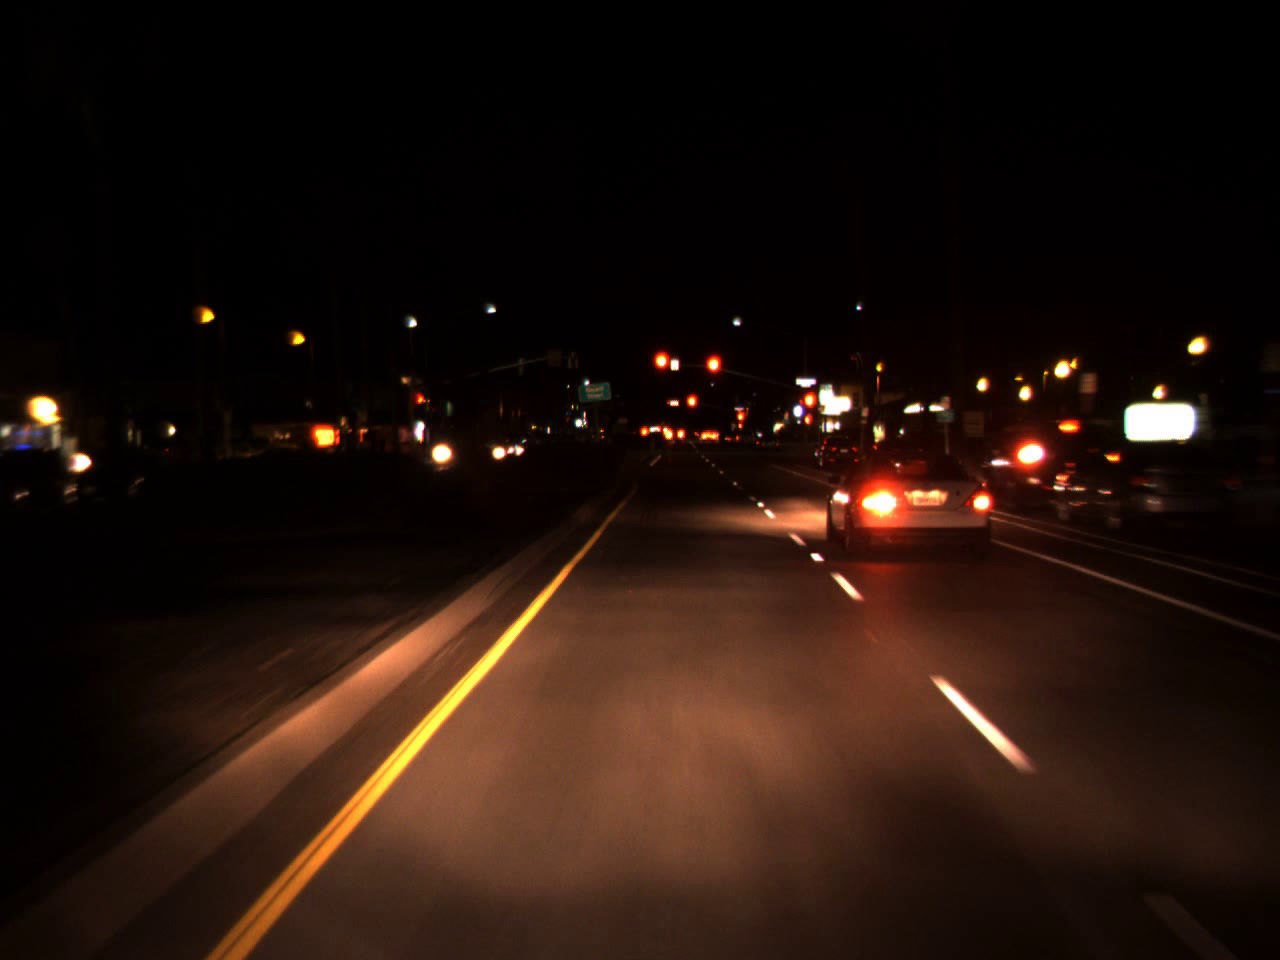stop: (651, 348, 673, 391), (703, 352, 722, 395), (801, 388, 819, 431), (684, 393, 699, 420), (736, 410, 745, 431), (416, 392, 425, 413)
